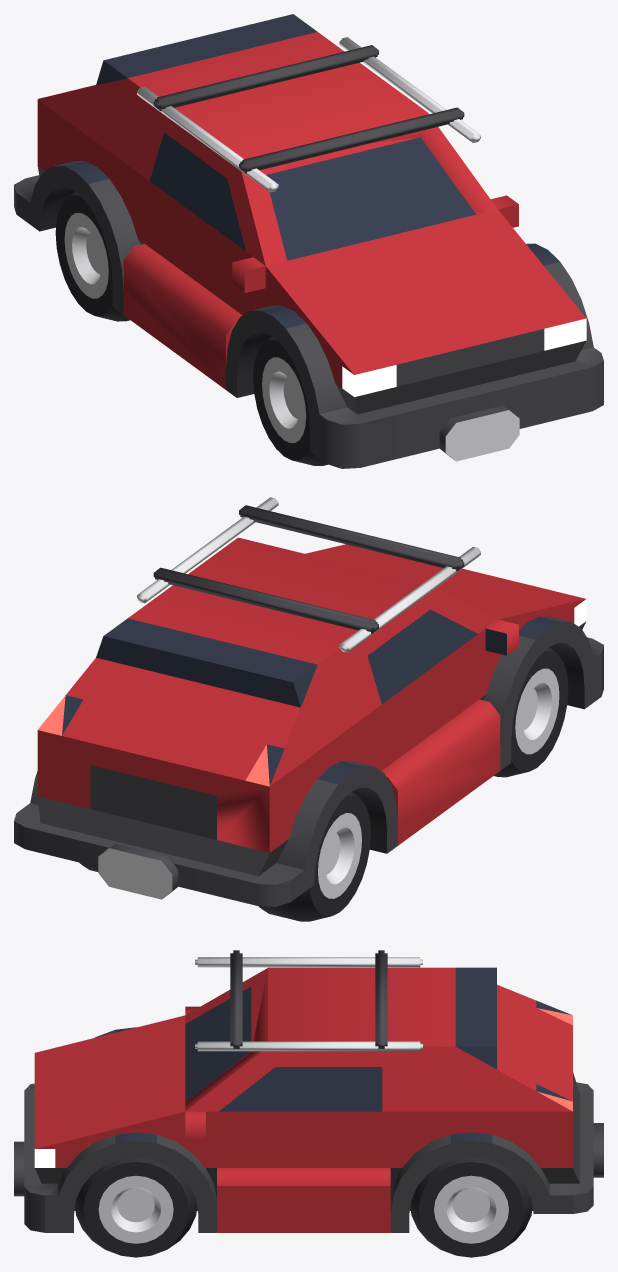
The model's file is car-red.glb.
3 renders of one model, top to bottom at view 1: azimuth 30°, elevation 25°; view 2: azimuth 150°, elevation 25°; view 3: azimuth 270°, elevation 25°, orthographic. The views are drawn at different scales.
Visible parts, largest first — view 1: body, wheel-back-right, wheel-front-right, RoofBar, RoofBar.001, RoofRail, RoofRail.001; view 2: body, wheel-back-right, wheel-front-right, RoofBar, RoofBar.001, RoofRail, RoofRail.001; view 3: body, wheel-back-left, wheel-front-left, RoofRail.001, RoofRail, RoofBar, RoofBar.001.
Part boxes in pixels (left/top/right/bottom): body: left=14, top=14, right=603, bottom=468; wheel-back-right: left=55, top=191, right=129, bottom=321; wheel-front-right: left=253, top=336, right=327, bottom=465; RoofBar: left=239, top=107, right=464, bottom=173; RoofBar.001: left=153, top=45, right=378, bottom=111; RoofRail: left=137, top=86, right=278, bottom=192; RoofRail.001: left=339, top=37, right=480, bottom=142; body: left=14, top=537, right=603, bottom=906; wheel-back-right: left=258, top=791, right=370, bottom=921; wheel-front-right: left=494, top=647, right=568, bottom=777; RoofBar: left=239, top=505, right=464, bottom=571; RoofBar.001: left=153, top=567, right=378, bottom=633; RoofRail: left=339, top=546, right=480, bottom=652; RoofRail.001: left=137, top=497, right=278, bottom=603; body: left=14, top=967, right=603, bottom=1232; wheel-back-left: left=410, top=1158, right=532, bottom=1257; wheel-front-left: left=75, top=1158, right=197, bottom=1257; RoofRail.001: left=195, top=1041, right=422, bottom=1051; RoofRail: left=195, top=957, right=422, bottom=967; RoofBar: left=230, top=950, right=242, bottom=1048; RoofBar.001: left=375, top=950, right=387, bottom=1048.
Bounding box in the file's own units: 1.3 × 1.17 × 2.85.
